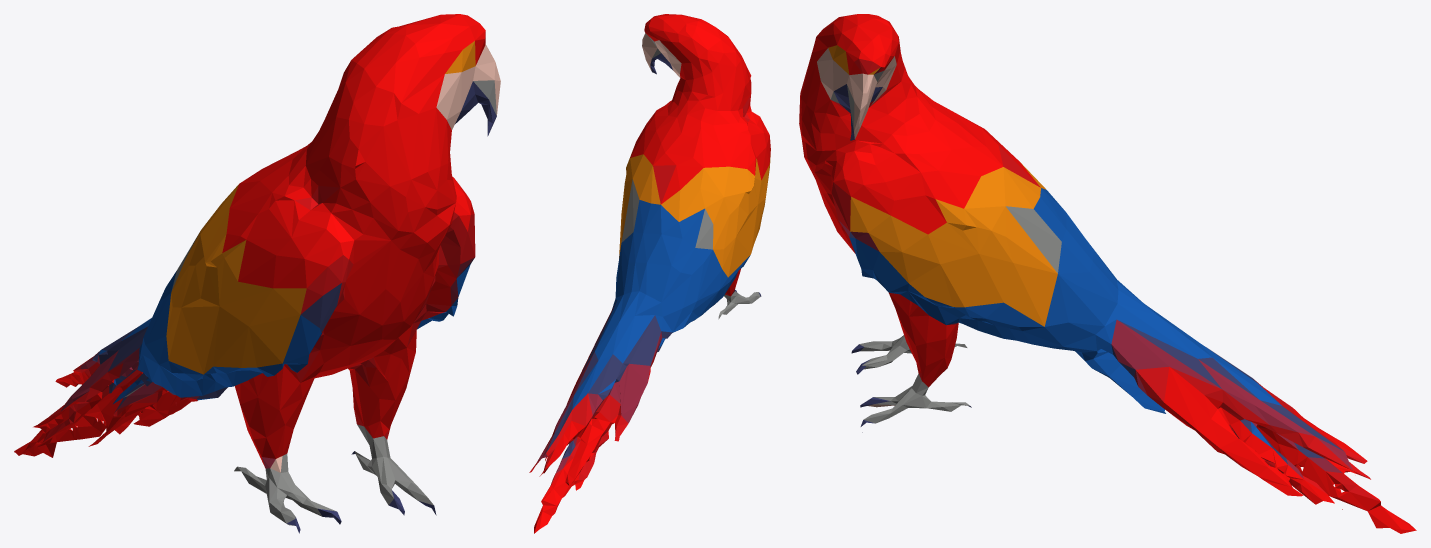
Rendered from low-poly-parrot.glb.
The picture shows the model from 3 angles, left to right: view 1: azimuth 30°, elevation 25°; view 2: azimuth 150°, elevation 25°; view 3: azimuth 270°, elevation 25°; orthographic projection. The views are drawn at different scales.
Parts seen in each view (by area): view 1: low-poly-parrot; view 2: low-poly-parrot; view 3: low-poly-parrot.
Boxes of the visible parts, x1,y1,x2,y2 form: low-poly-parrot: (14,14,500,533); low-poly-parrot: (529,14,770,533); low-poly-parrot: (799,14,1416,533).
Bounding box in the file's own units: 0.3179 × 0.8156 × 0.8479.
Materials: 1 (1 with a texture image).
